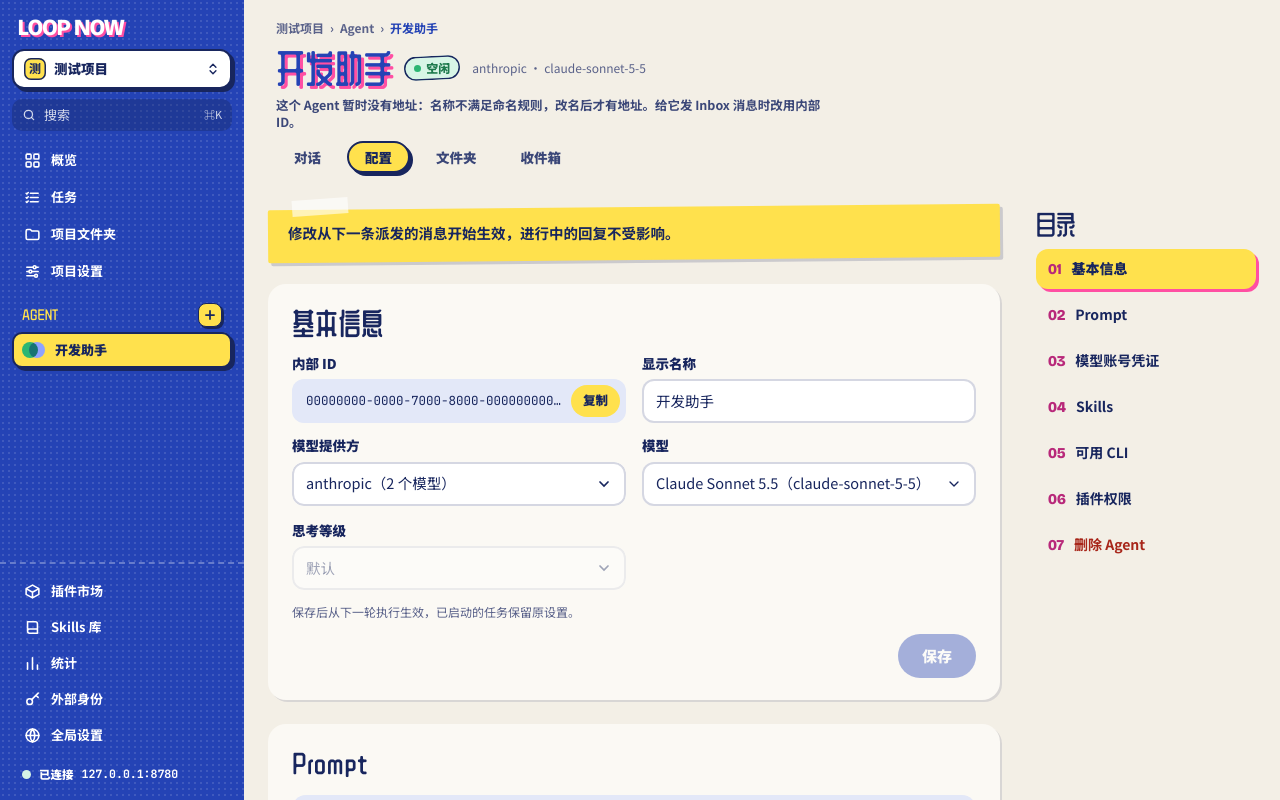
Test case: 模型选择 › 服务端对模型的字段级校验错误显示在模型选择旁，其余字段错误全部列出
Expected: the element "基本信息" is shown, [268,284,1000,700]
Click the dropdown named "模型". click: (809, 484)
box: [642,462,976,506]
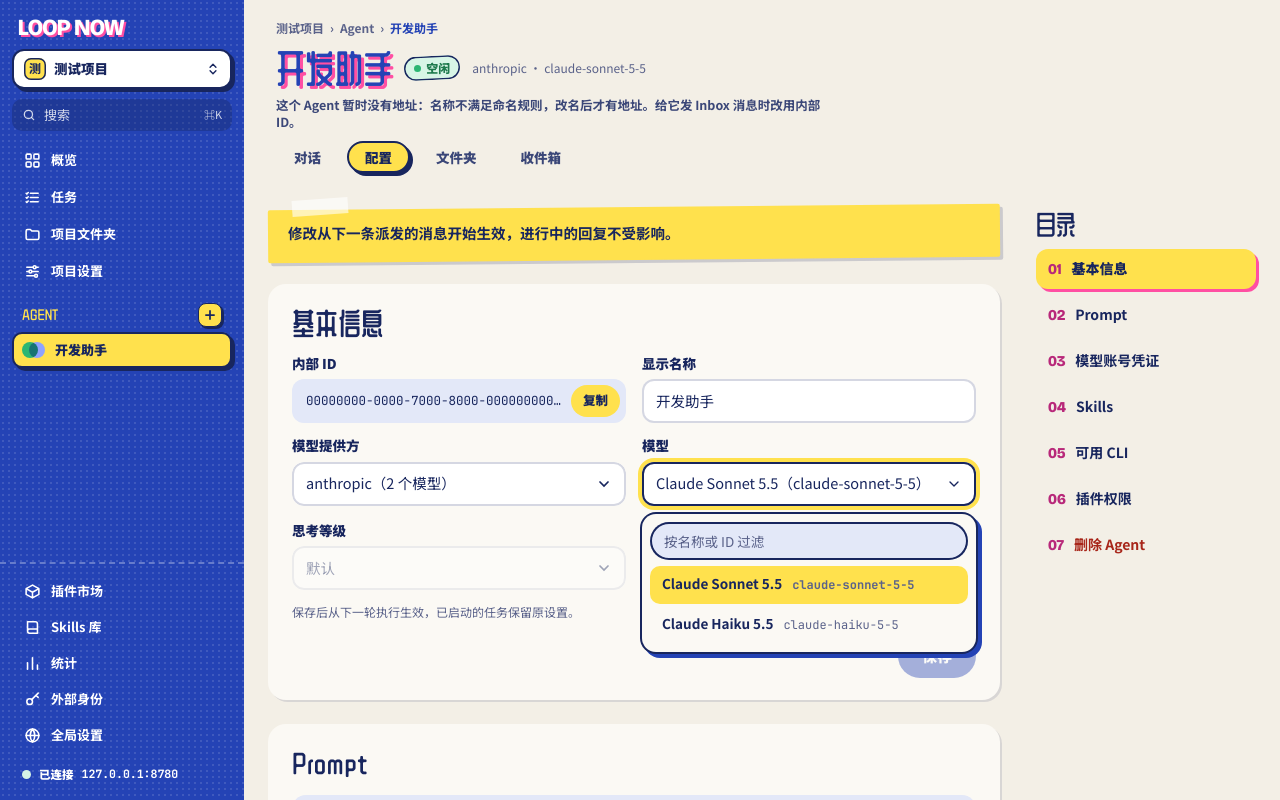
Click the option "Claude Haiku 5.5 claude-haiku-5-5". click: (718, 624)
box: [662,615,899,633]
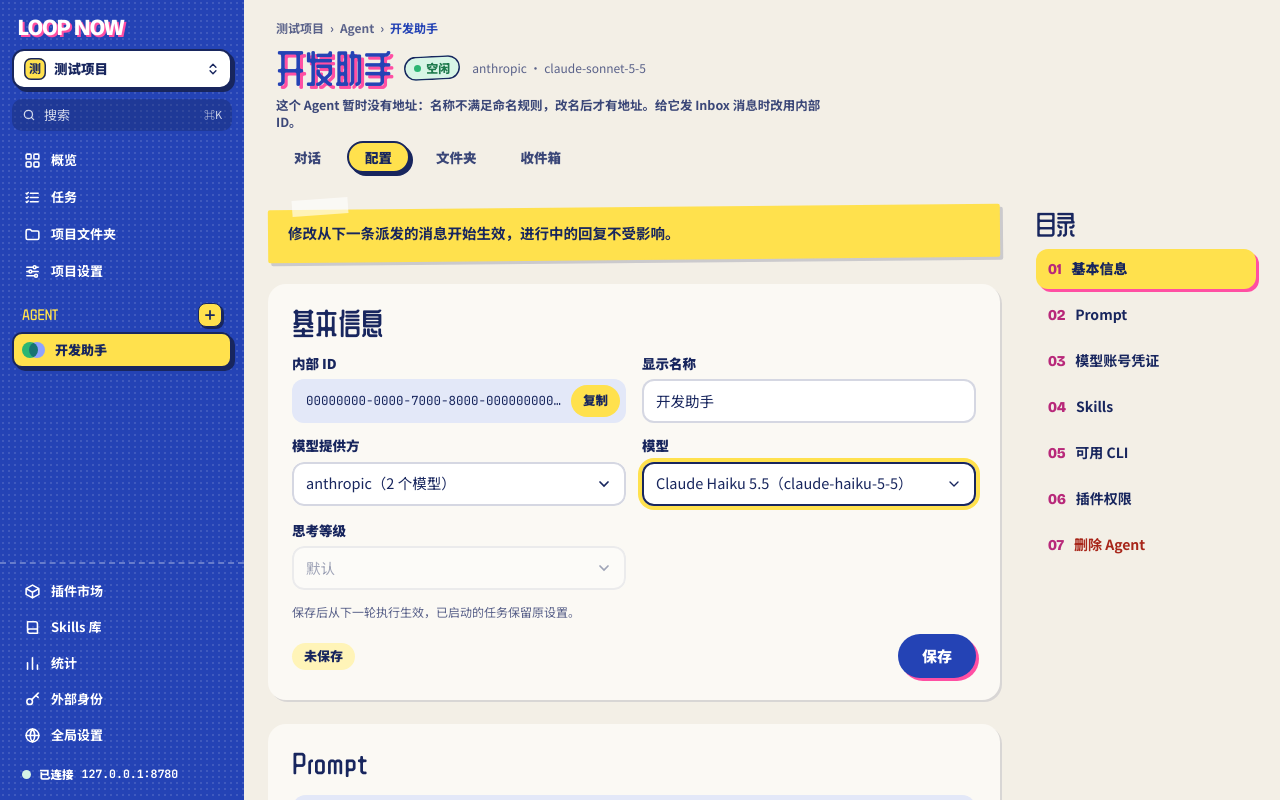
Click the button "保存". click: (937, 656)
box: [898,634,976,678]
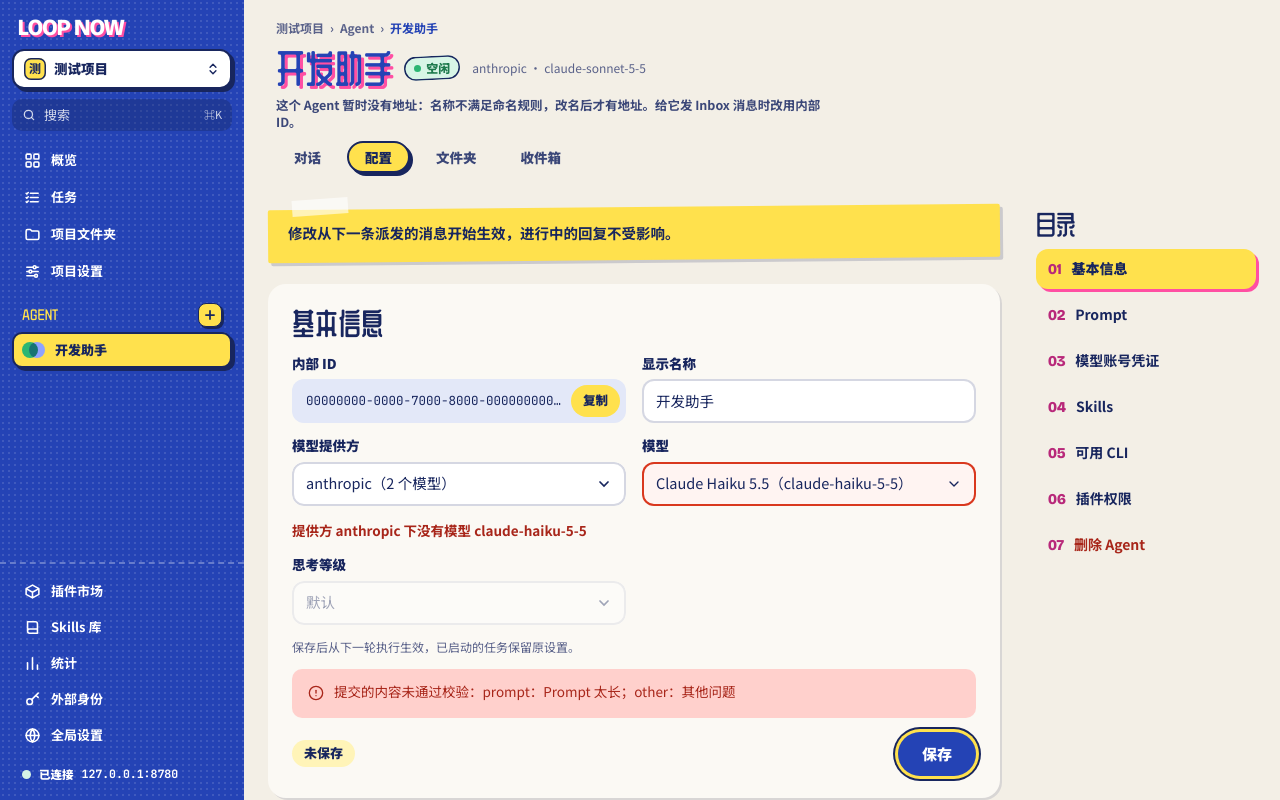
Expected: the message "提交的内容未通过校验：prompt：Prompt 太长；other：其他问题" does not show "model.modelId", [292,669,976,718]
Expected: the text "提供方 anthropic 下没有模型 claude-haiku-5-5" is shown, [292,522,587,539]
Expected: the message "提交的内容未通过校验：prompt：Prompt 太长；other：其他问题" is shown, [292,669,976,718]
